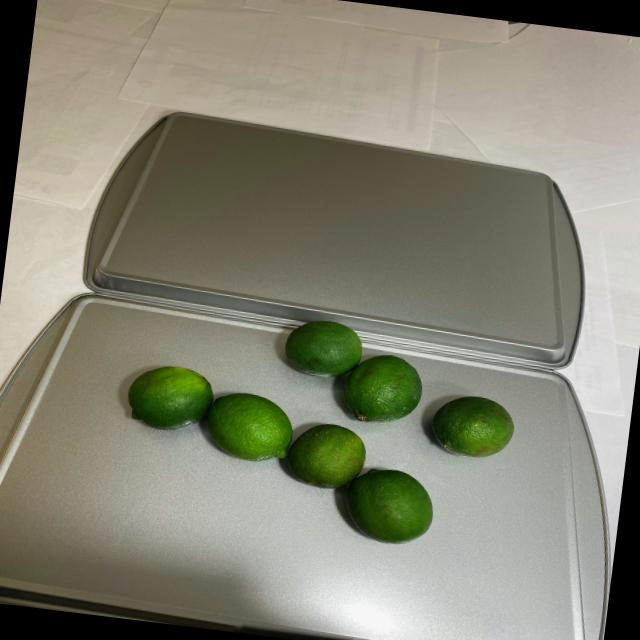lemon: (106, 296, 522, 557)
